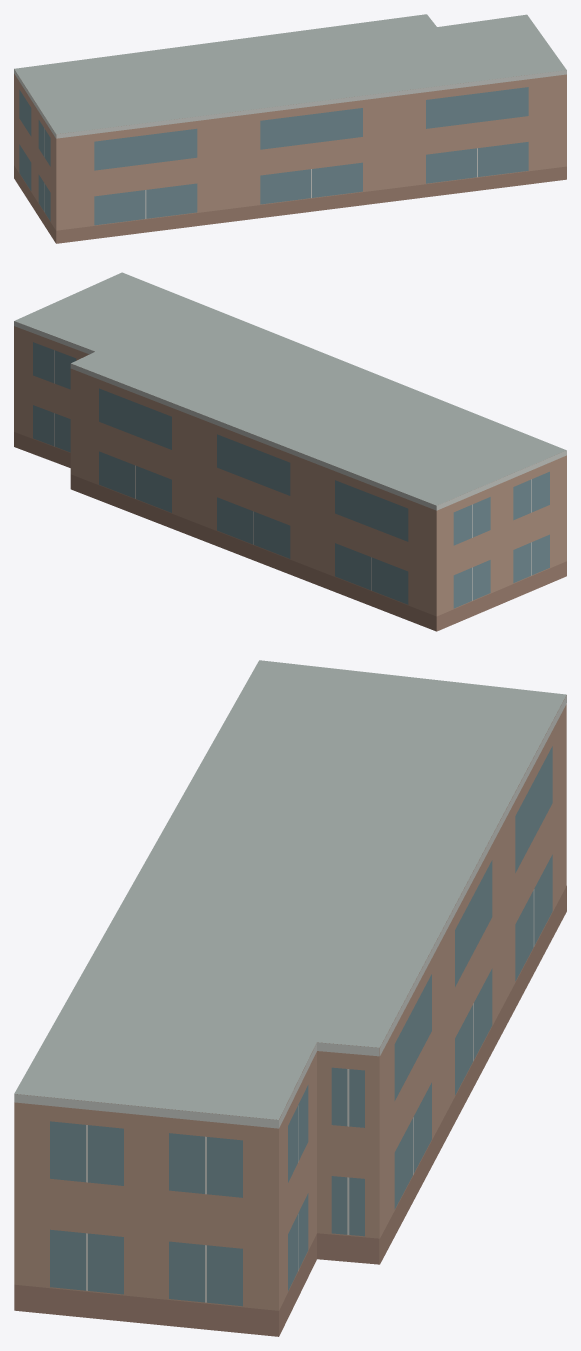
The model's file is survey-upis-32920236.glb.
The picture shows the model from 3 angles, top to bottom: view 1: azimuth 30°, elevation 25°; view 2: azimuth 150°, elevation 25°; view 3: azimuth 270°, elevation 25°; orthographic projection. The views are drawn at different scales.
Parts seen in each view (by area): view 1: survey-upis-32920236.tmp; view 2: survey-upis-32920236.tmp; view 3: survey-upis-32920236.tmp.
Part boxes in pixels (bbox=[...]): survey-upis-32920236.tmp: bbox=[14, 14, 566, 243]; survey-upis-32920236.tmp: bbox=[14, 272, 566, 631]; survey-upis-32920236.tmp: bbox=[14, 660, 566, 1336].
Bounding box in the file's own units: 27.76 × 6.1 × 14.1.
